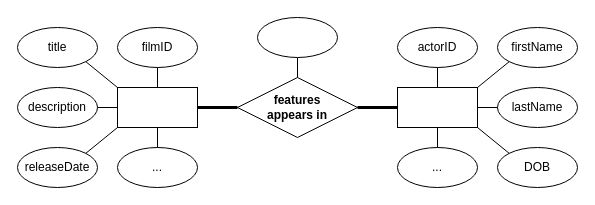
This 595x205 diagram has some shape labels left out. Here are the shapes that lost their labels. From the top down, the centre of each, then its label:
At [297,37]: "character".
At [157,107]: "film".
At [437,107]: "actor".
